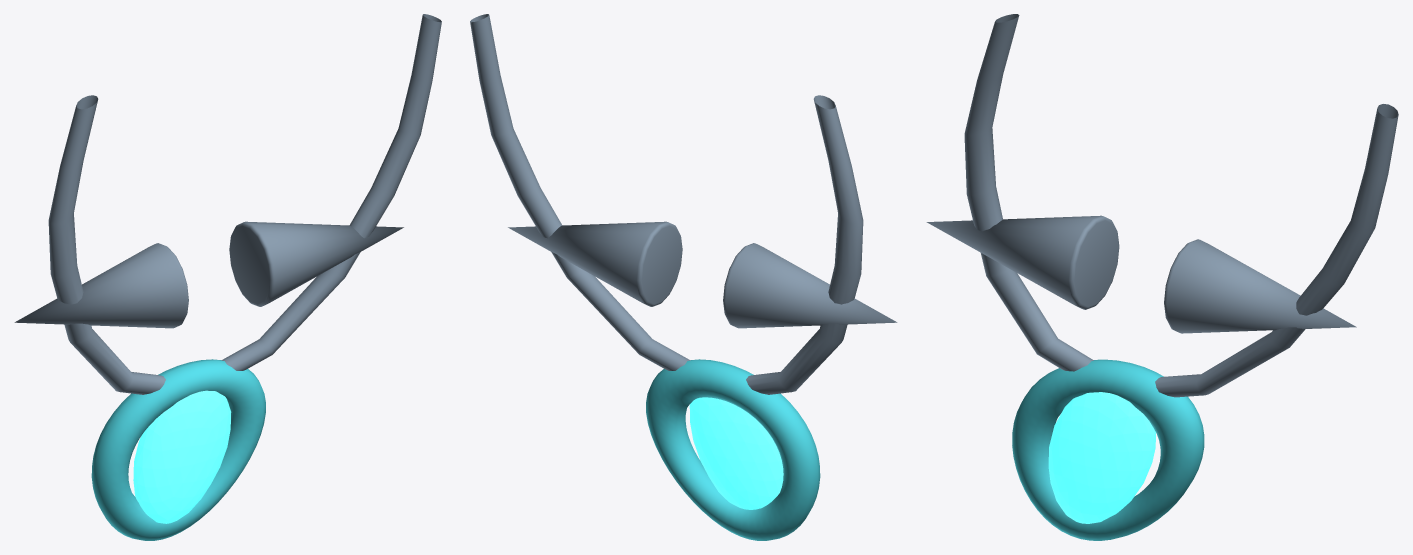
The model's file is necklace_v7.glb.
3 views of the same model, side by side, from view 1: azimuth 30°, elevation 25°; view 2: azimuth 150°, elevation 25°; view 3: azimuth 330°, elevation 25° (orthographic). The views are drawn at different scales.
Parts seen in each view (by area): view 1: NECKLACE_CHAIN_PRIMARY, PENDANT_FRAME_ACCENT, PENDANT_GEM_EMISSIVE, BRUTAL_SPIKE_PRIMARY.001, BRUTAL_SPIKE_PRIMARY; view 2: NECKLACE_CHAIN_PRIMARY, PENDANT_FRAME_ACCENT, BRUTAL_SPIKE_PRIMARY.001, BRUTAL_SPIKE_PRIMARY, PENDANT_GEM_EMISSIVE; view 3: NECKLACE_CHAIN_PRIMARY, PENDANT_FRAME_ACCENT, PENDANT_GEM_EMISSIVE, BRUTAL_SPIKE_PRIMARY, BRUTAL_SPIKE_PRIMARY.001.
Part boxes in pixels (x1,y1,x2,y2): NECKLACE_CHAIN_PRIMARY: (48, 14, 441, 394); PENDANT_FRAME_ACCENT: (91, 359, 265, 540); PENDANT_GEM_EMISSIVE: (133, 390, 231, 523); BRUTAL_SPIKE_PRIMARY.001: (229, 221, 403, 306); BRUTAL_SPIKE_PRIMARY: (14, 243, 188, 328); NECKLACE_CHAIN_PRIMARY: (470, 14, 863, 394); PENDANT_FRAME_ACCENT: (646, 359, 820, 540); BRUTAL_SPIKE_PRIMARY.001: (508, 221, 682, 306); BRUTAL_SPIKE_PRIMARY: (723, 243, 897, 328); PENDANT_GEM_EMISSIVE: (689, 397, 783, 509); NECKLACE_CHAIN_PRIMARY: (964, 14, 1398, 397); PENDANT_FRAME_ACCENT: (1012, 359, 1204, 540); PENDANT_GEM_EMISSIVE: (1048, 392, 1155, 523); BRUTAL_SPIKE_PRIMARY: (926, 215, 1119, 309); BRUTAL_SPIKE_PRIMARY.001: (1164, 239, 1356, 333).
Size of the model in its own units: 1.99 by 2.04 by 0.3513.
